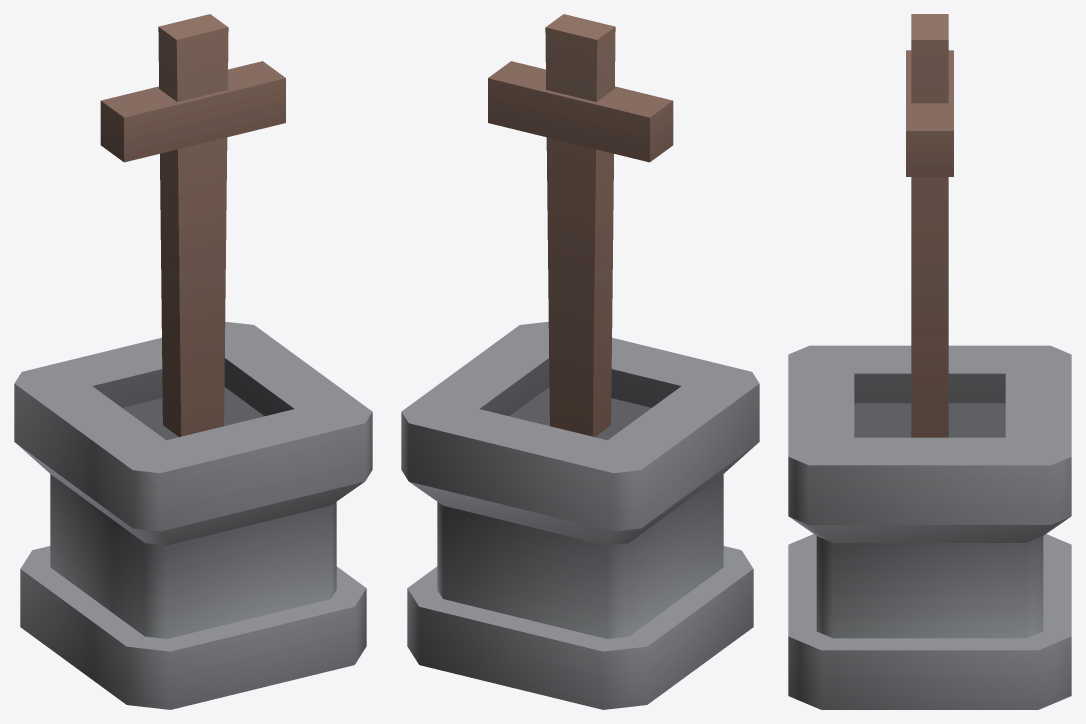
File: cross-wood.glb
The picture shows the model from 3 angles, left to right: view 1: azimuth 30°, elevation 25°; view 2: azimuth 150°, elevation 25°; view 3: azimuth 270°, elevation 25°; orthographic projection. The views are drawn at different scales.
Visible parts, largest first — view 1: cross-wood; view 2: cross-wood; view 3: cross-wood.
Boxes of the visible parts, <box> form: cross-wood: <box>14,14,372,709</box>; cross-wood: <box>401,14,759,709</box>; cross-wood: <box>788,14,1071,709</box>.
Bounding box in the file's own units: 0.645 × 1.57 × 0.645.
1 material, 1 textured.
